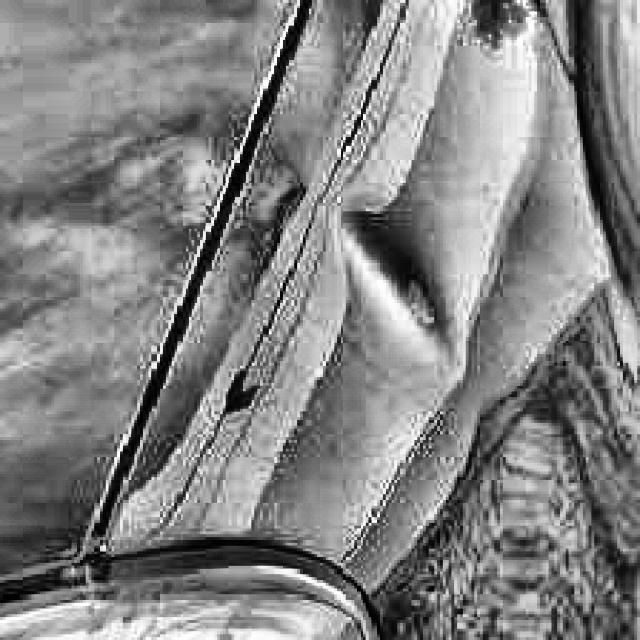door_dent: (322, 212, 477, 385)
